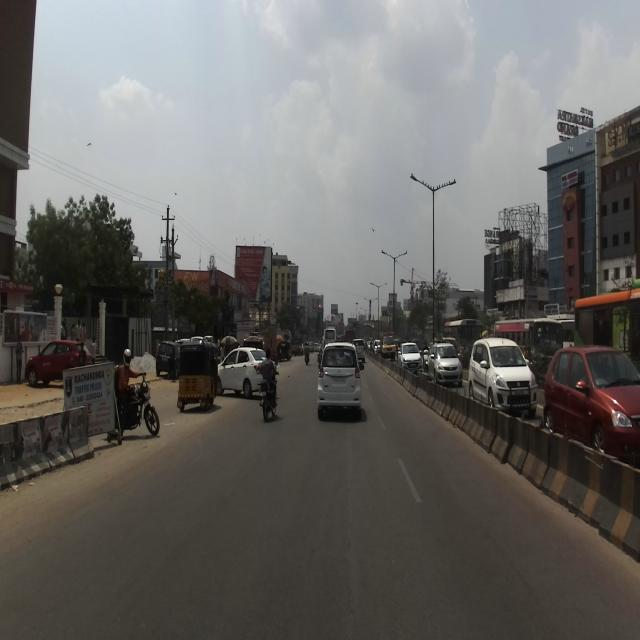Car: (24, 339, 92, 387)
Car_Maruti-Suzuki: (468, 336, 538, 418), (317, 342, 363, 420), (427, 339, 462, 384)
Car_TATA: (542, 343, 640, 469)
motorcycle_Honda: (105, 372, 159, 436)
